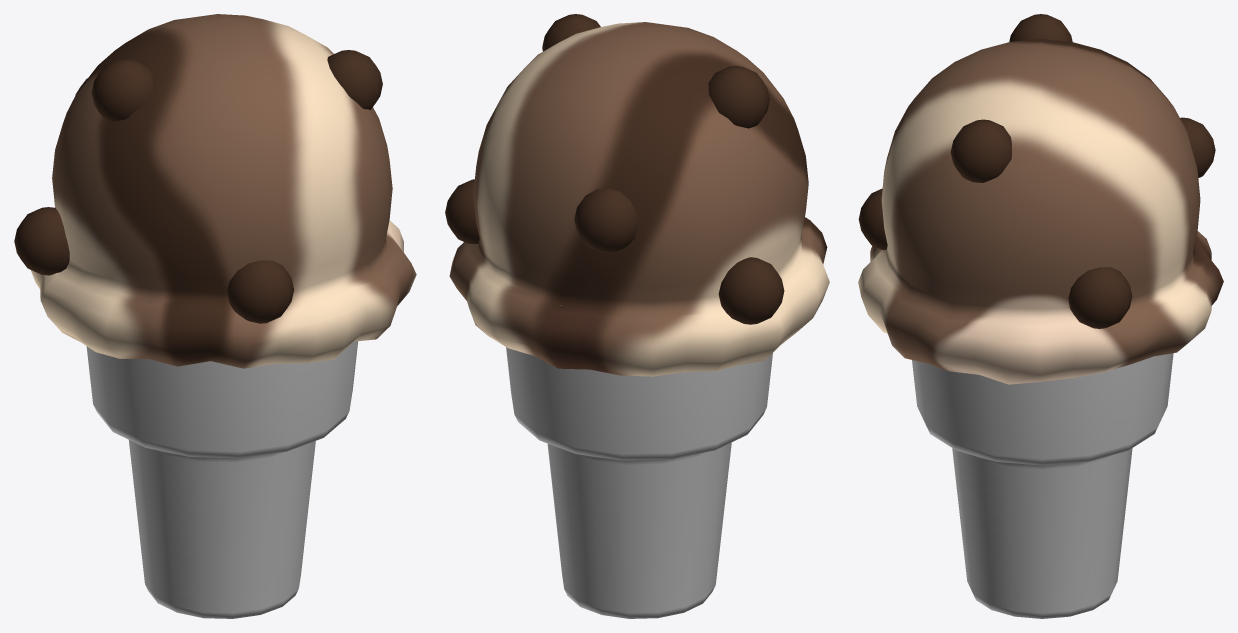
The model's file is IcecreamBall.fbx.
The picture shows the model from 3 angles, left to right: view 1: azimuth 30°, elevation 25°; view 2: azimuth 150°, elevation 25°; view 3: azimuth 270°, elevation 25°; orthographic projection. The views are drawn at different scales.
Visible parts, largest first — view 1: polySurface4; view 2: polySurface4; view 3: polySurface4.
Boxes of the visible parts, box(x1,y1,x2,y2) form: polySurface4: box(14, 14, 416, 618); polySurface4: box(445, 14, 829, 618); polySurface4: box(858, 14, 1223, 618).
Bounding box in the file's own units: 193 × 306 × 189.
